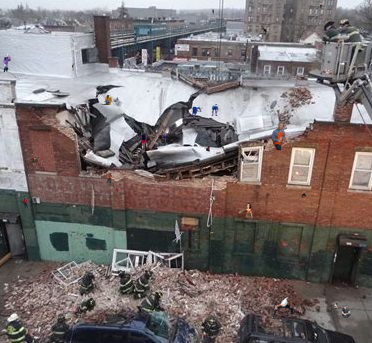Human: (132, 132, 166, 148), (271, 297, 296, 318), (271, 122, 286, 150), (192, 104, 219, 119), (238, 200, 253, 224), (115, 187, 129, 198), (340, 304, 351, 318), (3, 54, 11, 72), (100, 95, 112, 105), (107, 173, 114, 186), (22, 197, 29, 209), (235, 154, 244, 162), (261, 28, 267, 35), (200, 334, 206, 341), (77, 107, 85, 112), (204, 146, 210, 152), (32, 157, 38, 163), (308, 125, 313, 131), (113, 97, 119, 102), (334, 303, 339, 309), (301, 193, 307, 198), (209, 232, 214, 236), (11, 98, 15, 103), (72, 63, 74, 71), (318, 304, 323, 307), (320, 2, 322, 8), (72, 204, 76, 207), (212, 9, 214, 14), (18, 192, 20, 197)
